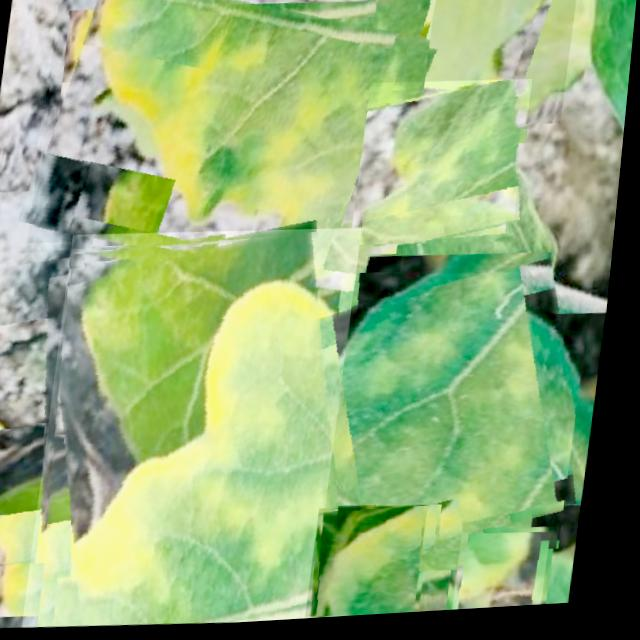leaf_spot: (32, 222, 366, 636), (26, 0, 437, 294), (289, 267, 601, 569), (0, 232, 245, 574), (353, 79, 534, 255), (384, 0, 579, 138), (317, 507, 438, 623), (463, 536, 560, 616)
